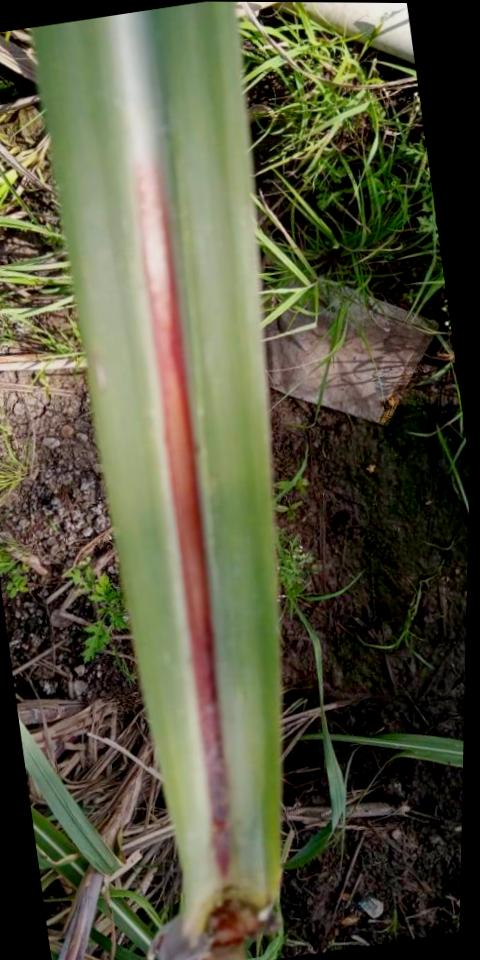RedRot: (136, 156, 234, 878)
